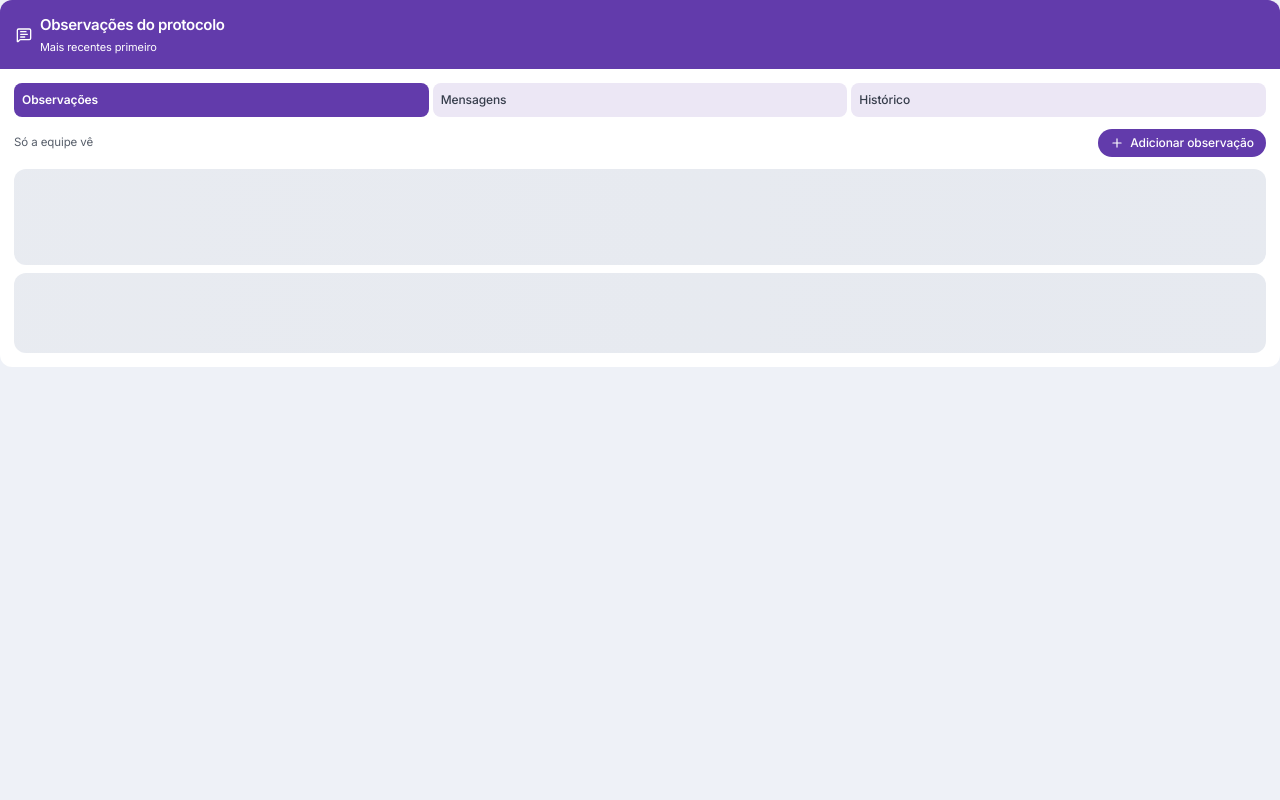
salva a observação no protocolo e mantém o mesmo registro na miniaba Histórico
Step 1. Click the button "Adicionar observação" → (1182, 143), box [1098,129,1266,157]
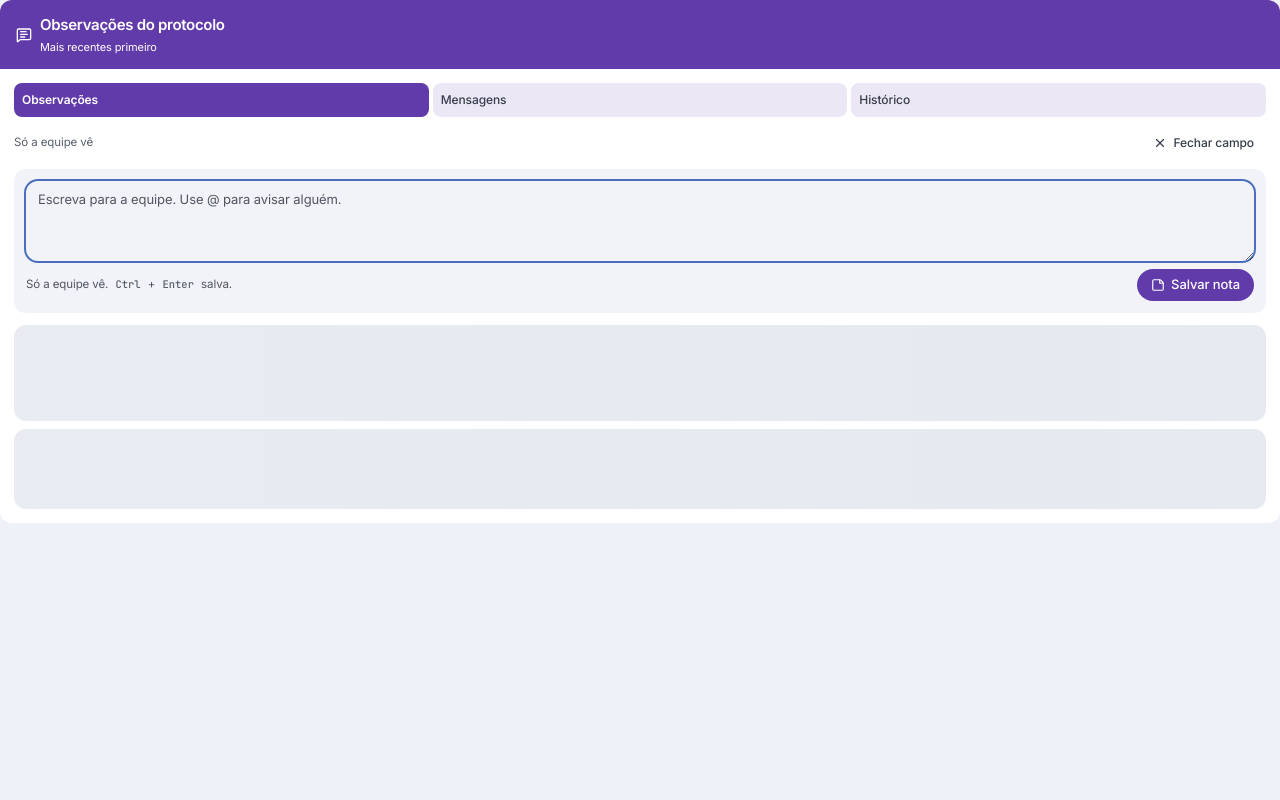
Step 2. Type "Conferir a oferta antes de orientar a matrícula." into the dropdown named "Nota interna" → (640, 221), box [26,181,1254,261]
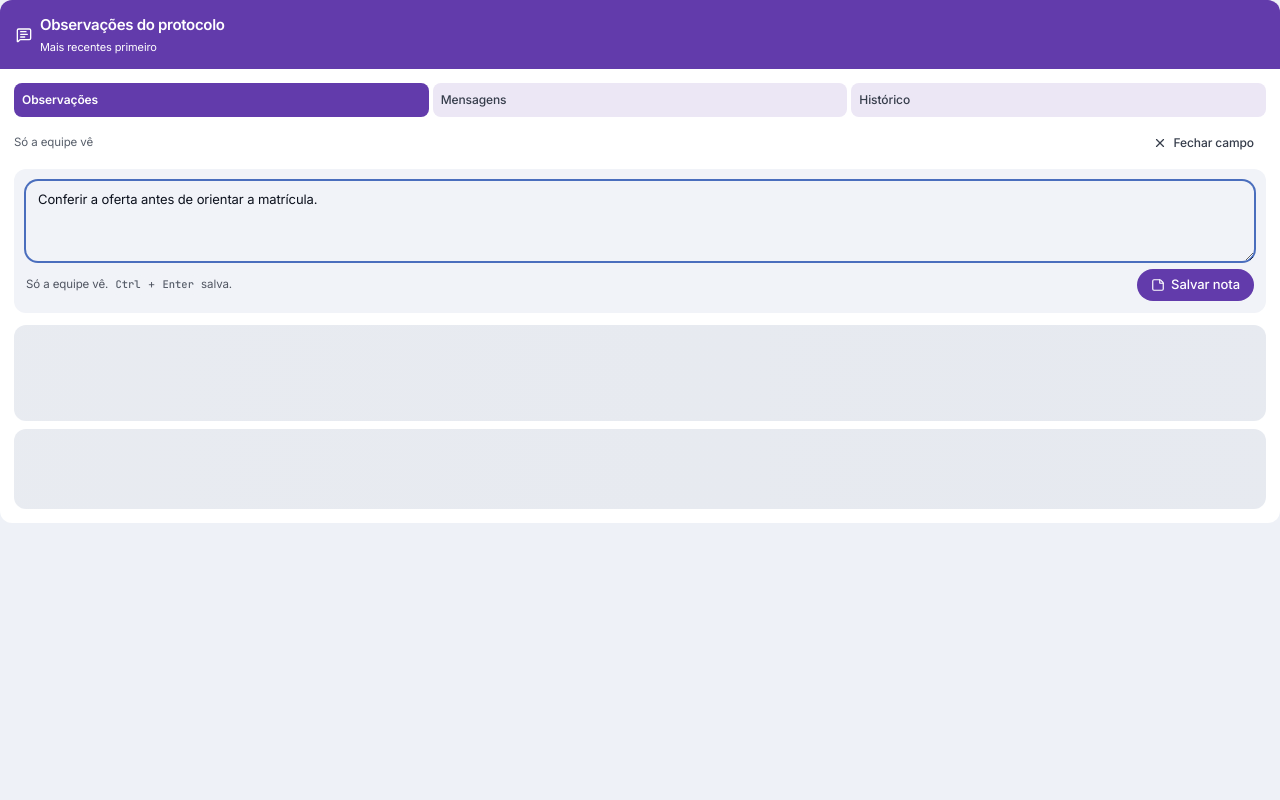
Step 3. Click the button "Salvar nota" → (1196, 285), box [1137,269,1254,301]
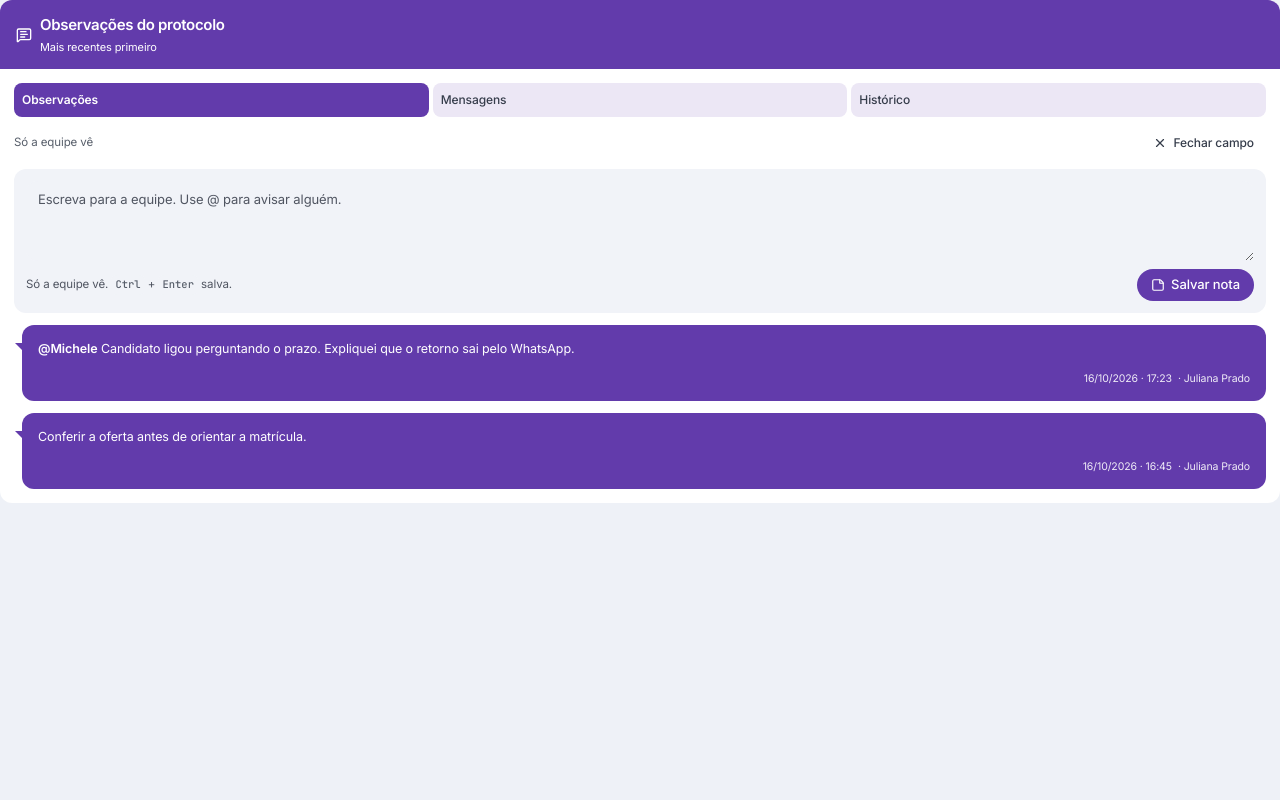
Check: the dropdown with placeholder "Escreva para a equipe. Use @ para avisar alguém." is empty, box [26,181,1254,261]
Check: the 2nd list item shows "Conferir a oferta antes de orientar a matrícula.", box [38,429,306,444]
Step 4. Click the tab "Histórico" → (885, 100), box [851,83,1266,117]
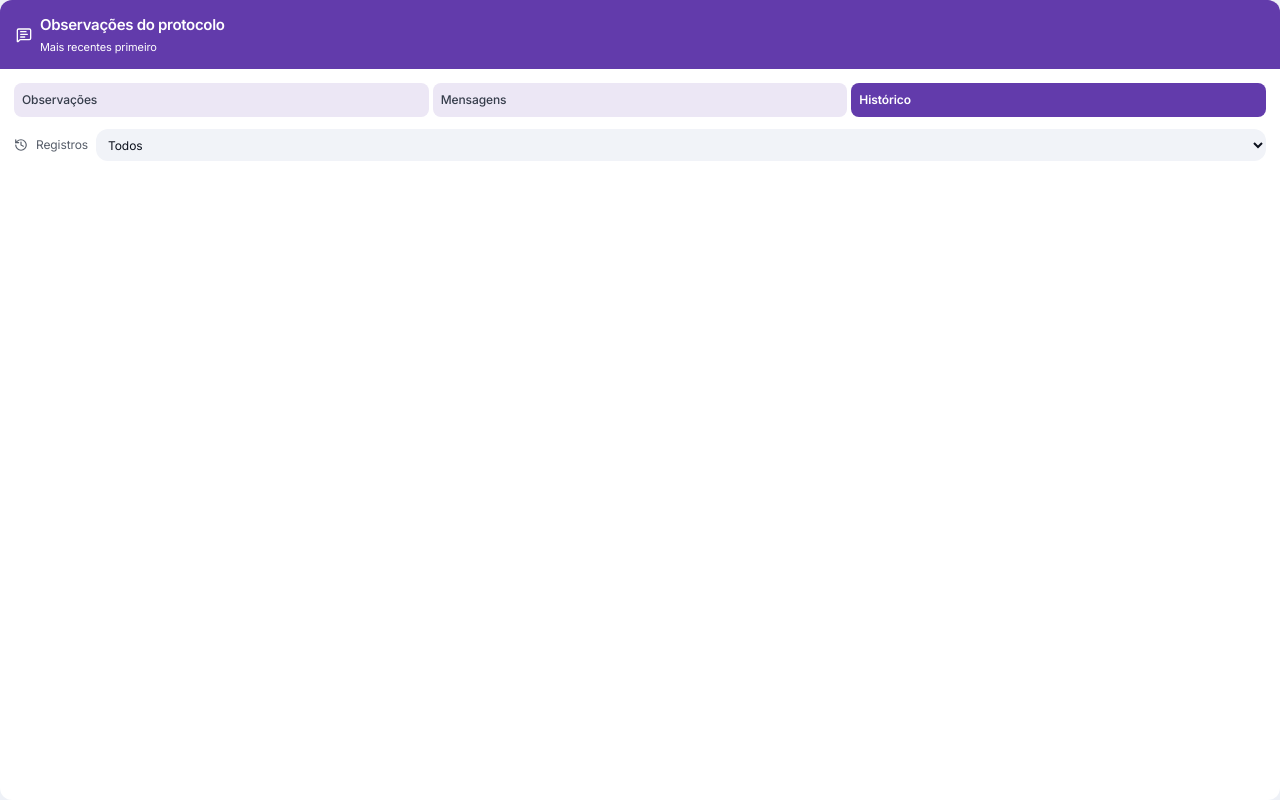
Step 5. Click the tab "Observações" → (60, 100), box [14,83,429,117]
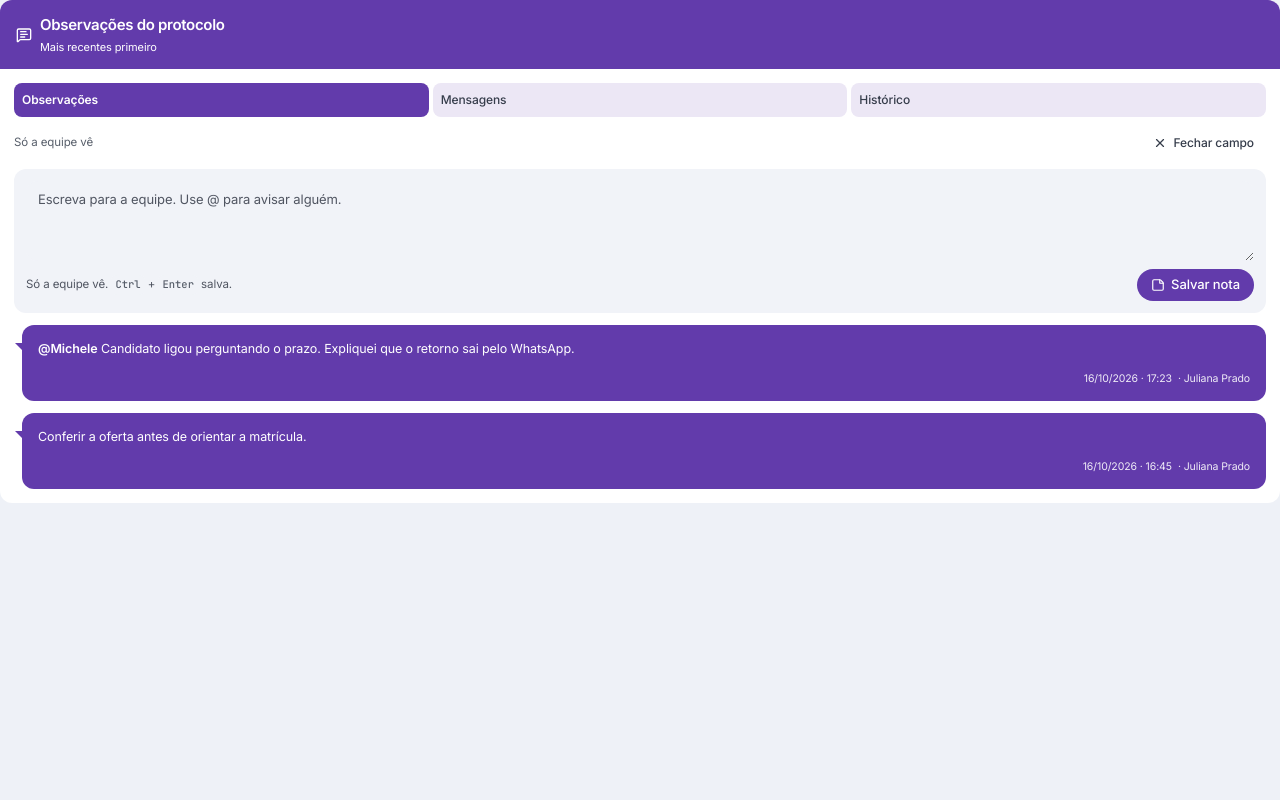
Check: the text "Conferir a oferta antes de orientar a matrícula." is shown, box [38,429,306,444]
